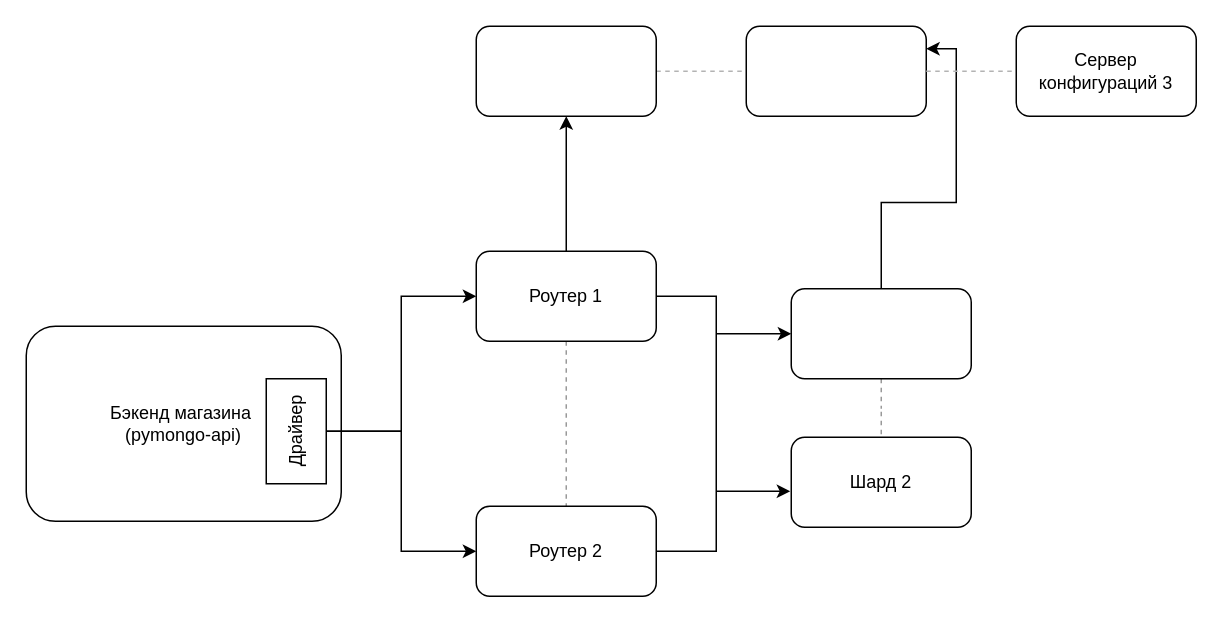
The diagram is 1223 pixels wide and 623 high, and some of its shapes have lost their labels. Here are the shapes that lost their labels. From the top down, the centre of each, then its label:
At point (565, 70): "Сервер конфигураций 1".
At point (835, 70): "Сервер конфигураций 2".
At point (880, 333): "Шард 1".
